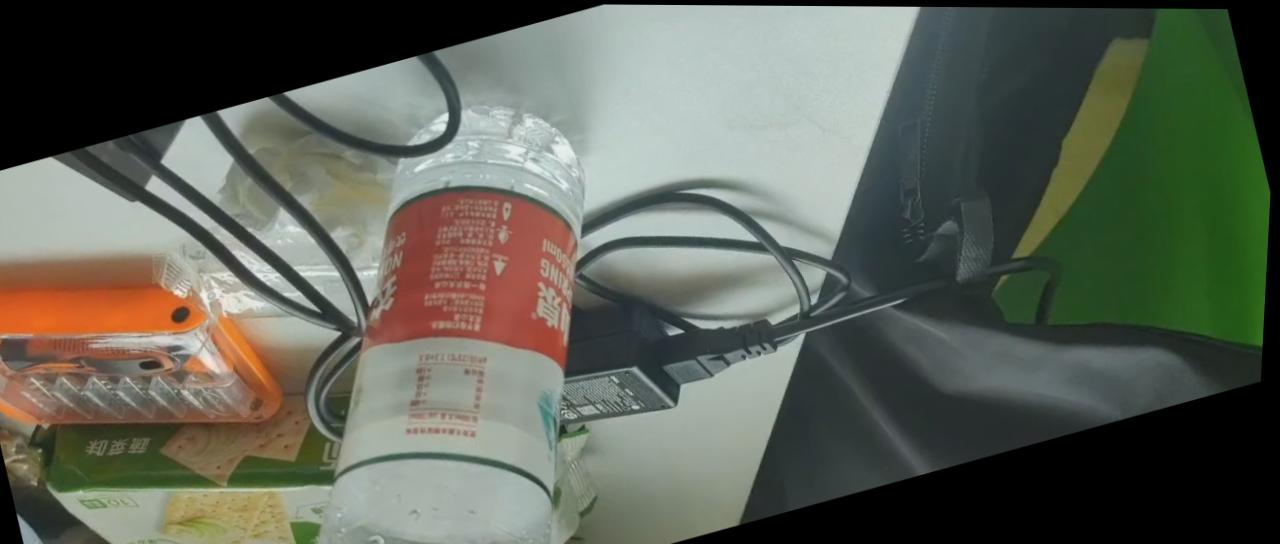plastic: (209, 58, 668, 540)
